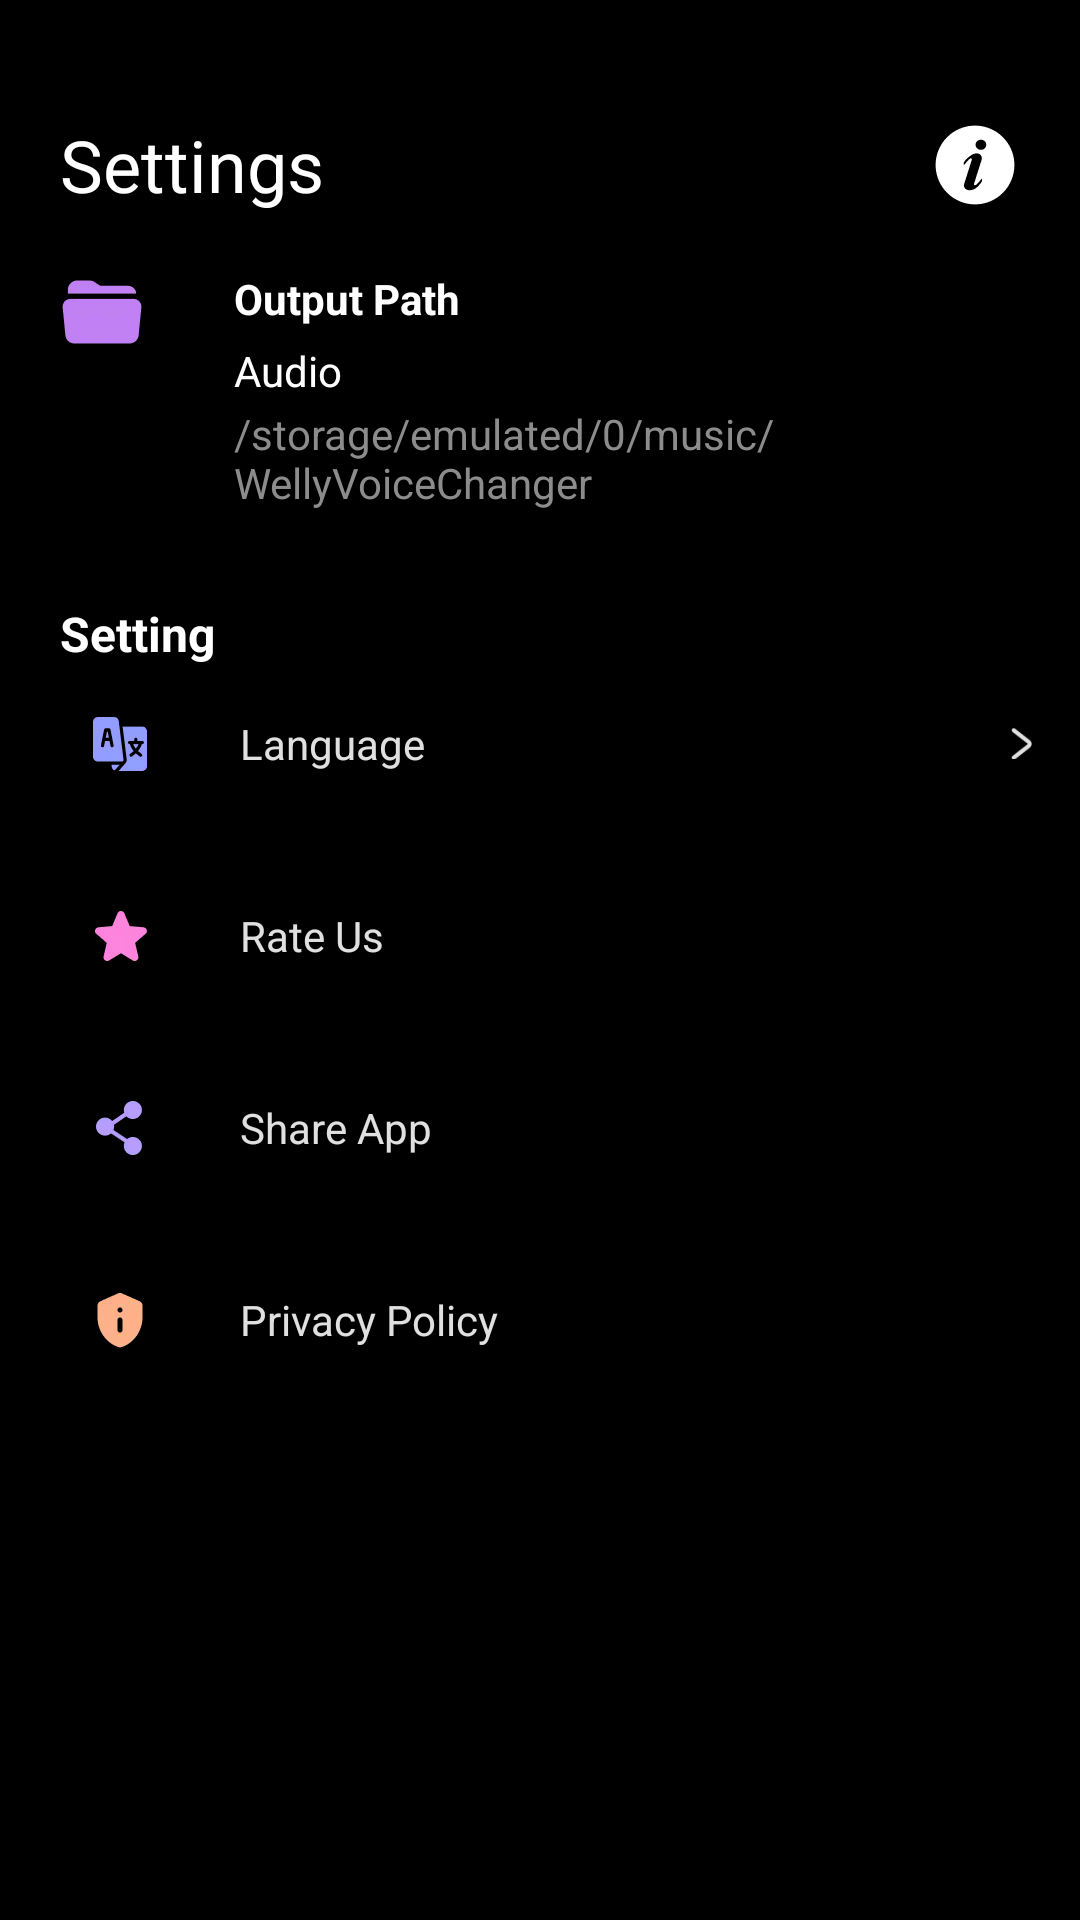

Where icons sit on this 1080 x 1920 app screen, as [x1,y1,x2,y2]:
folder: [62,280,142,344]
